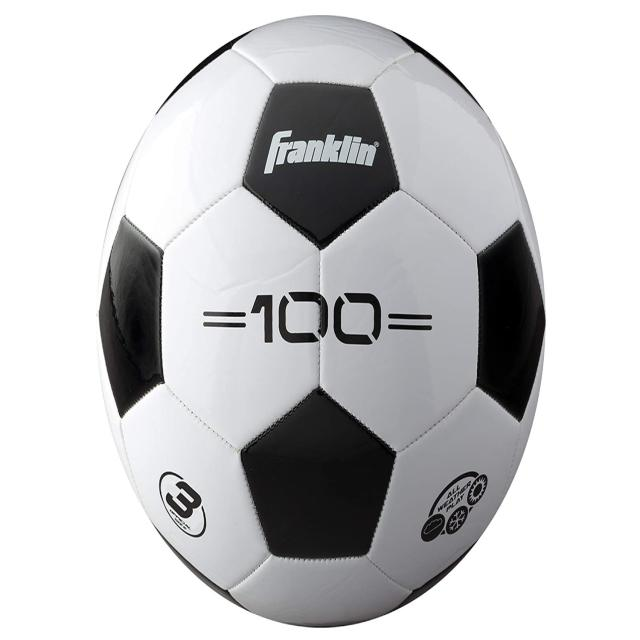soccer ball: (98, 16, 542, 628)
